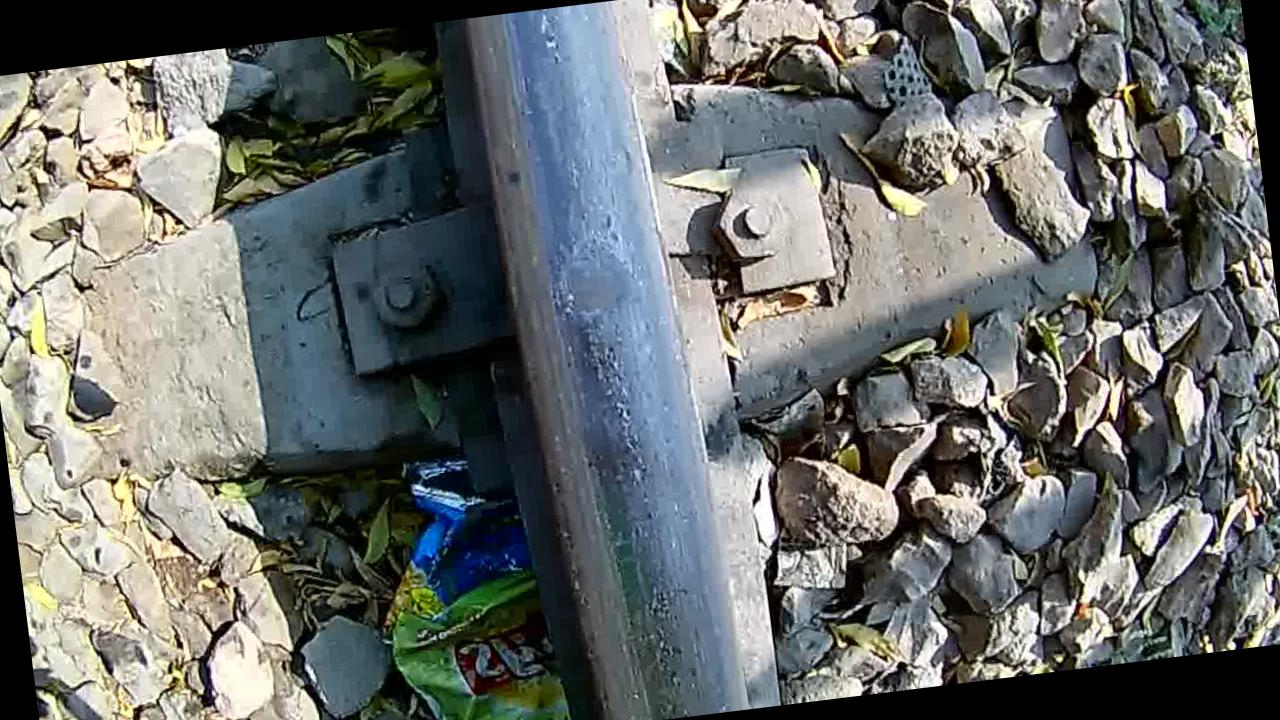bolt_missing: (504, 202, 698, 420)
